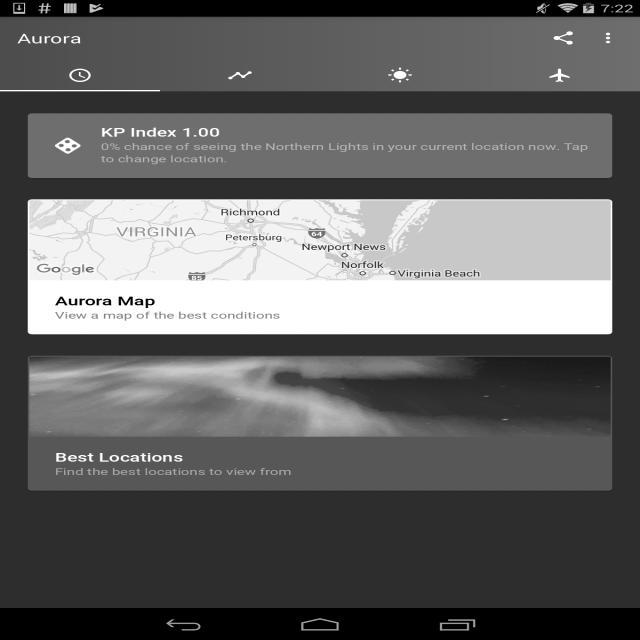ImageView: (29, 356, 611, 436), (589, 22, 631, 54), (34, 262, 99, 277), (67, 68, 93, 84), (227, 68, 253, 84), (387, 68, 413, 84), (547, 68, 573, 84), (55, 138, 80, 154)
TextView: (101, 140, 594, 166), (55, 465, 292, 478), (55, 309, 280, 321), (55, 449, 183, 465), (101, 124, 220, 140), (55, 292, 156, 309), (538, 22, 588, 54), (17, 29, 82, 47)
